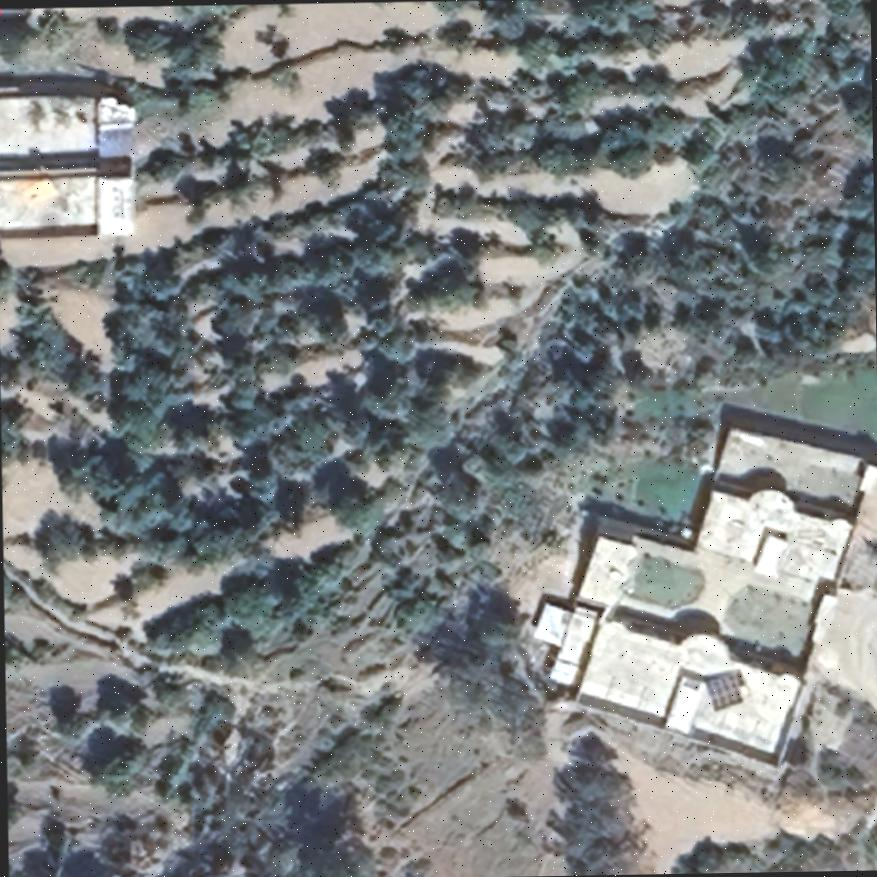Solarpanel: (704, 670, 743, 710)
